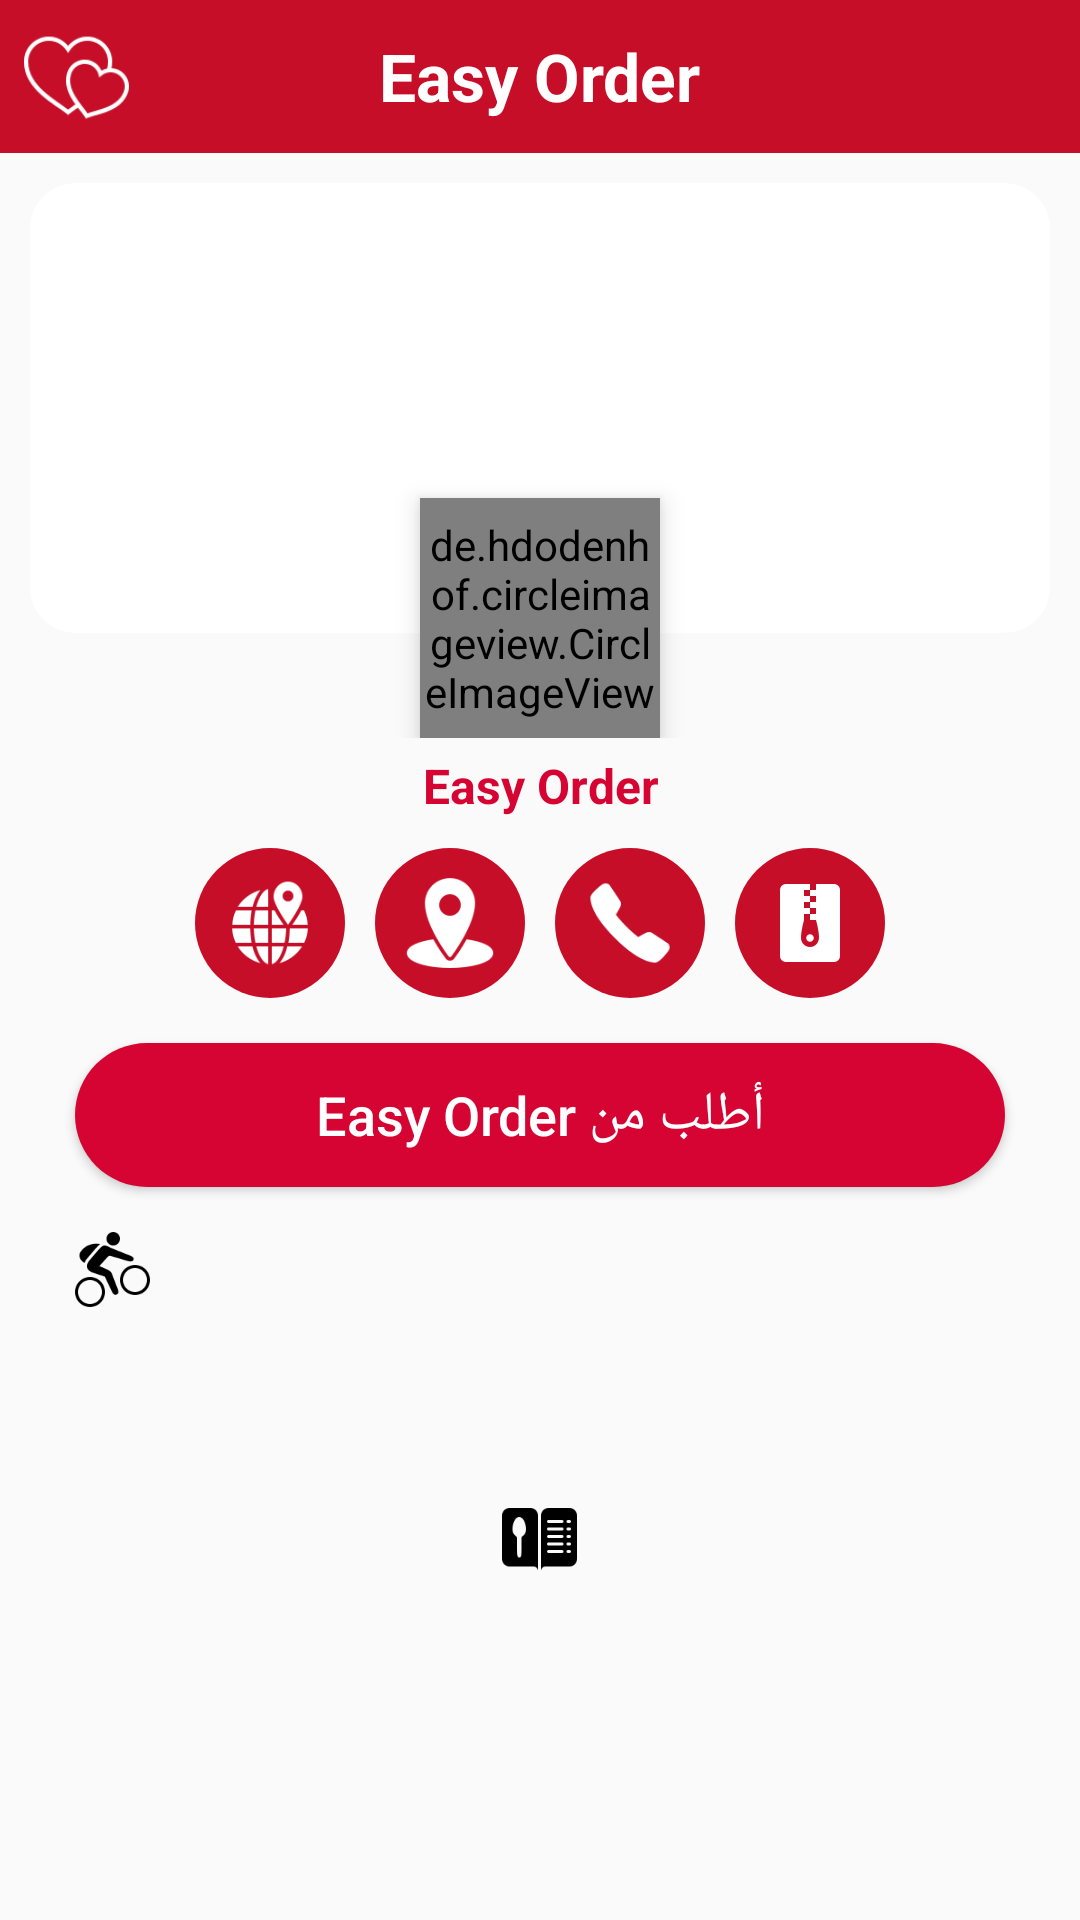

Where to tap for icons on this 1080 × 1920 app screen, as (x=x, y=y):
archive: (x=810, y=923)
cycling: (x=112, y=1269)
location: (x=270, y=923)
phone: (x=630, y=923)
place marker: (x=450, y=923)
restaurant menu: (x=539, y=1539)
romance heart: (x=76, y=77)
